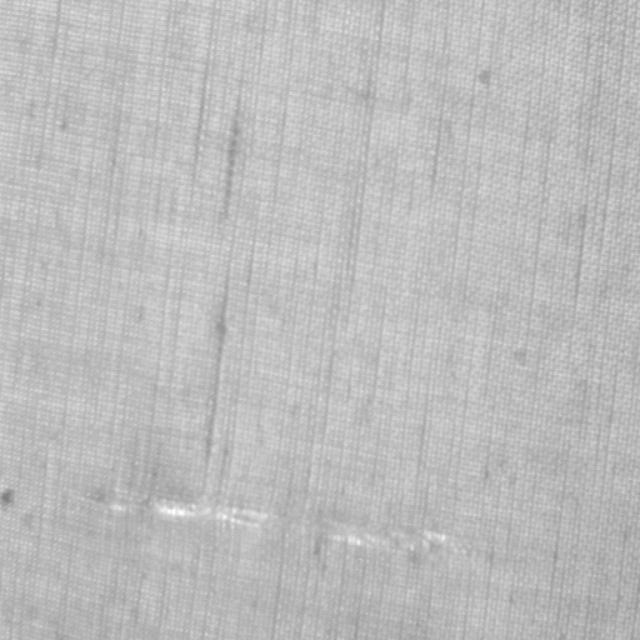thread error: (88, 478, 485, 570)
